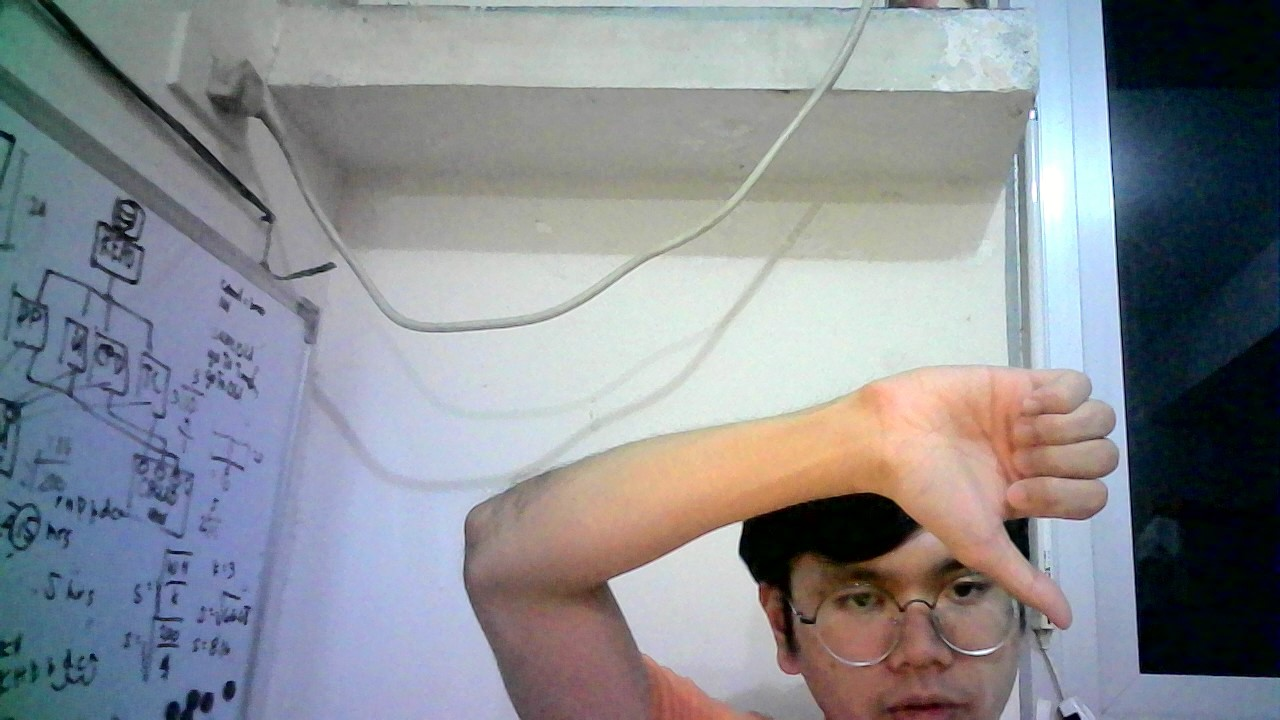thumbs_down: (857, 364, 1121, 633)
